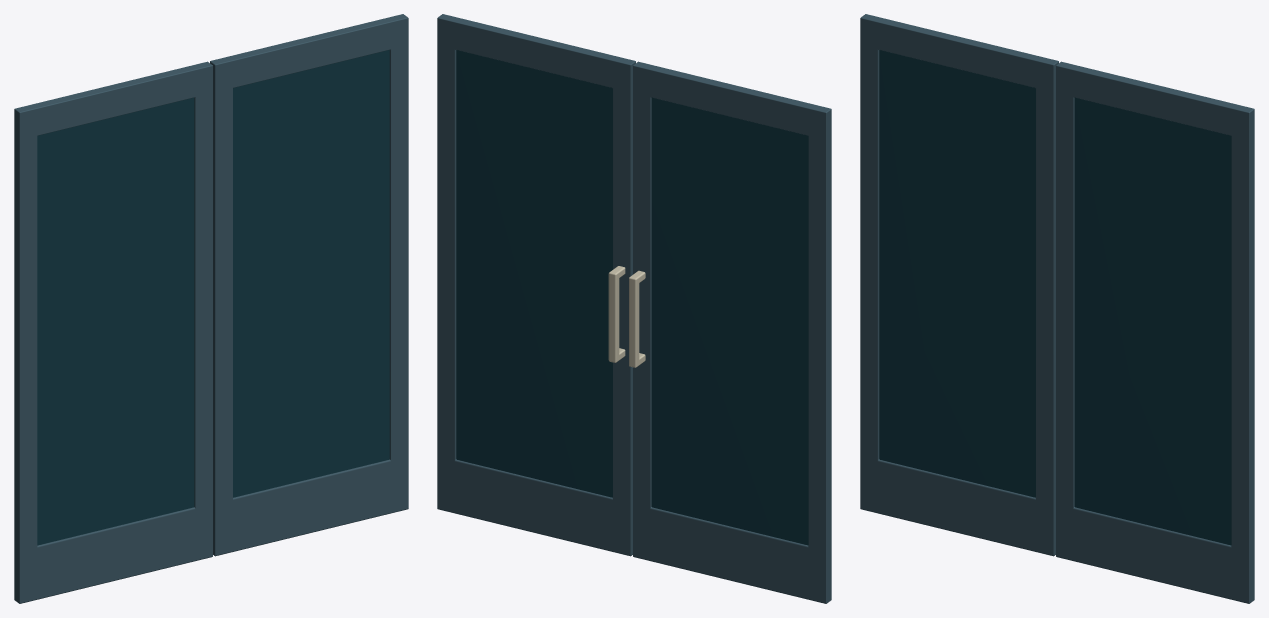
The model's file is city_shop_fittings_06_double.glb.
3 views of the same model, side by side, from view 1: azimuth 30°, elevation 25°; view 2: azimuth 150°, elevation 25°; view 3: azimuth 330°, elevation 25° (orthographic).
Visible parts, largest first — view 1: double_leaf_1_glazing, double_leaf_2_glazing, double_leaf_1_stiles_rails, double_leaf_2_stiles_rails; view 2: double_leaf_1_glazing, double_leaf_2_glazing, double_leaf_1_stiles_rails, double_leaf_2_stiles_rails, double_leaf_2_static_pull, double_leaf_1_static_pull; view 3: double_leaf_2_glazing, double_leaf_1_glazing, double_leaf_2_stiles_rails, double_leaf_1_stiles_rails.
Boxes of the visible parts, x1,y1,x2,y2 form: double_leaf_1_glazing: (37, 97, 194, 545); double_leaf_2_glazing: (233, 50, 389, 497); double_leaf_1_stiles_rails: (14, 61, 212, 603); double_leaf_2_stiles_rails: (210, 14, 408, 556); double_leaf_1_glazing: (651, 97, 808, 545); double_leaf_2_glazing: (456, 50, 612, 497); double_leaf_1_stiles_rails: (633, 61, 831, 603); double_leaf_2_stiles_rails: (437, 14, 635, 556); double_leaf_2_static_pull: (608, 266, 625, 362); double_leaf_1_static_pull: (629, 270, 645, 367); double_leaf_2_glazing: (1074, 97, 1231, 545); double_leaf_1_glazing: (879, 50, 1035, 497); double_leaf_2_stiles_rails: (1056, 61, 1254, 603); double_leaf_1_stiles_rails: (860, 14, 1058, 556).
Size of the model in its own units: 1.82 by 2.2 by 0.123.
